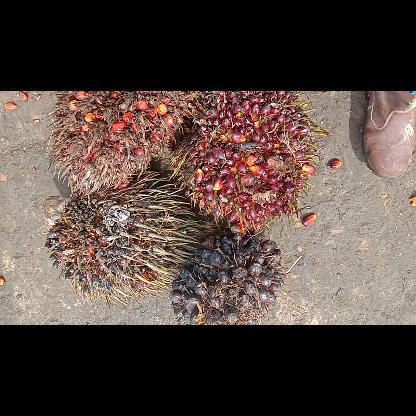TBS abnormal: (44, 169, 192, 303)
TBS masak: (166, 90, 324, 235)
TBS mentah: (169, 228, 282, 324)
Terlalu masak: (48, 90, 192, 192)
